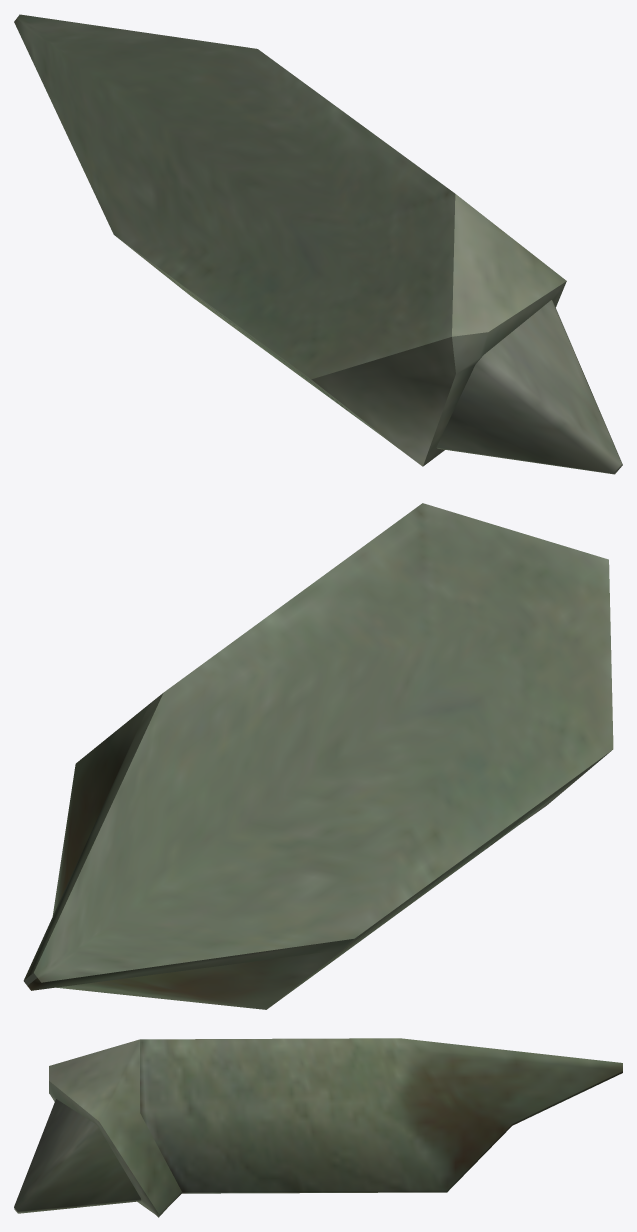
The model's file is Ruins_Trim_Top_Deco_A.fbx.
The picture shows the model from 3 angles, top to bottom: view 1: azimuth 30°, elevation 25°; view 2: azimuth 150°, elevation 25°; view 3: azimuth 270°, elevation 25°; orthographic projection. The views are drawn at different scales.
Visible parts, largest first — view 1: Ruins_Trim_Top_Deco_A; view 2: Ruins_Trim_Top_Deco_A; view 3: Ruins_Trim_Top_Deco_A.
Part boxes in pixels (bbox=[...]): Ruins_Trim_Top_Deco_A: bbox=[14, 14, 622, 474]; Ruins_Trim_Top_Deco_A: bbox=[23, 503, 613, 1009]; Ruins_Trim_Top_Deco_A: bbox=[14, 1038, 622, 1217].
Bounding box in the file's own units: 85.94 × 85.44 × 301.
